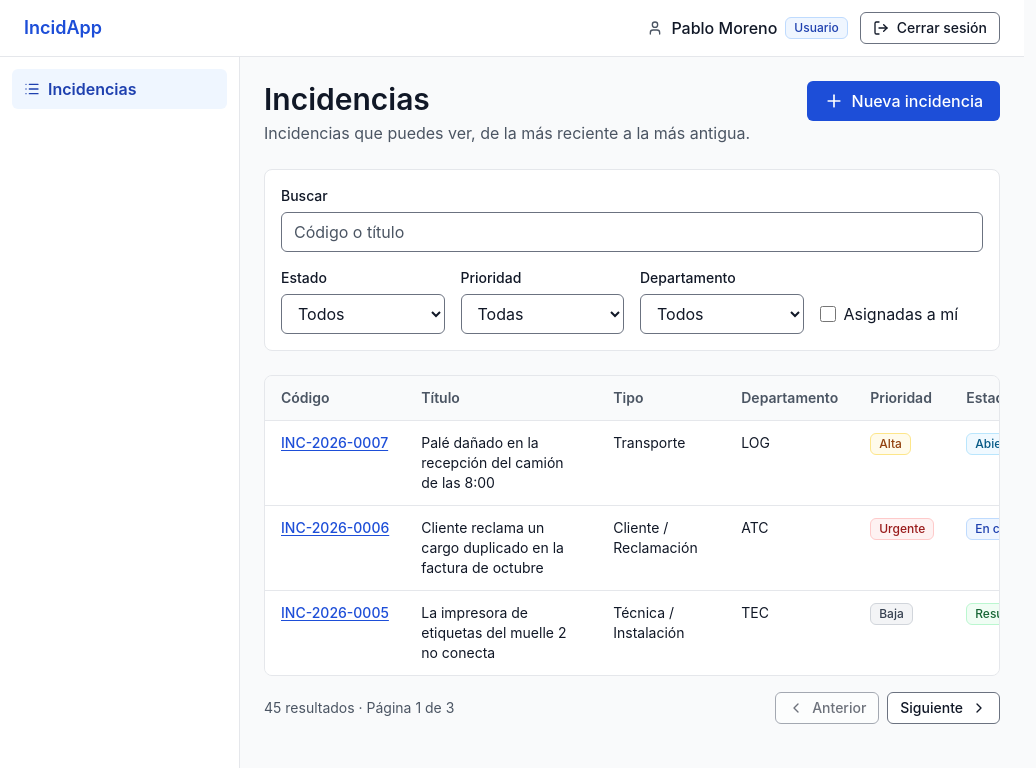
Test: CA-03.12 · listado de incidencias › cambiar un filtro pide la página 1 con los filtros combinados
Step 1. Click the button "Siguiente" → (944, 708), box [887,692,1000,724]
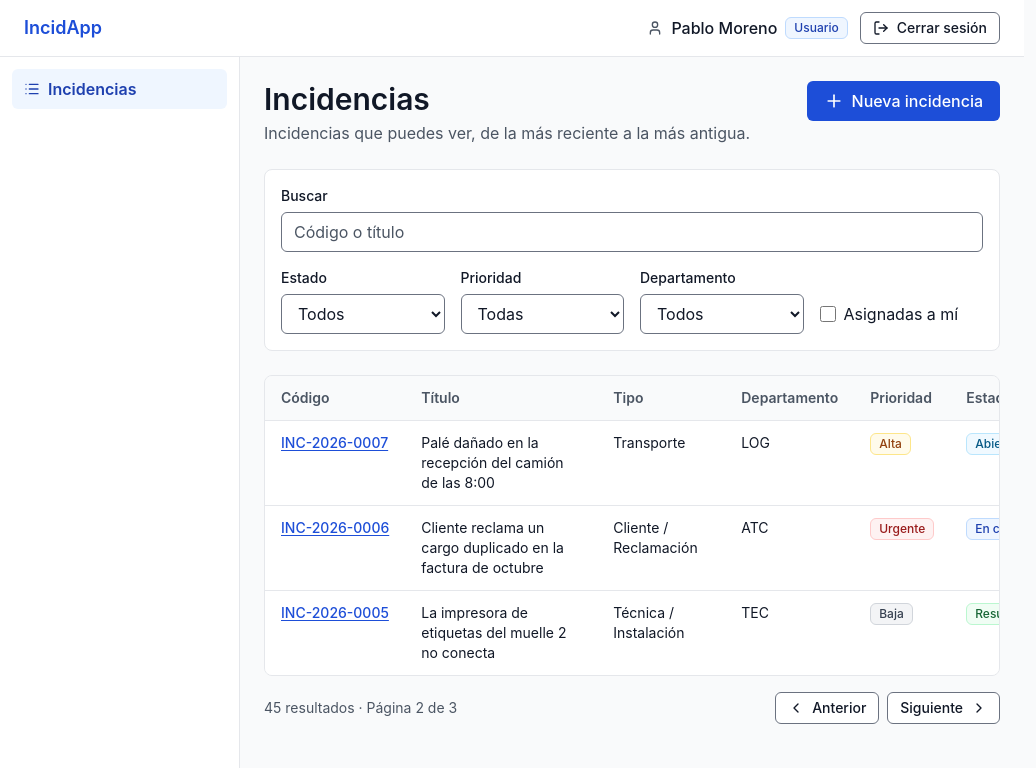
Expected: the text "45 resultados · Página 2 de 3" is shown, [264,698,457,718]
Step 2. Select "En curso" in the dropdown labelled "Estado" → (363, 314), box [281,294,444,334]
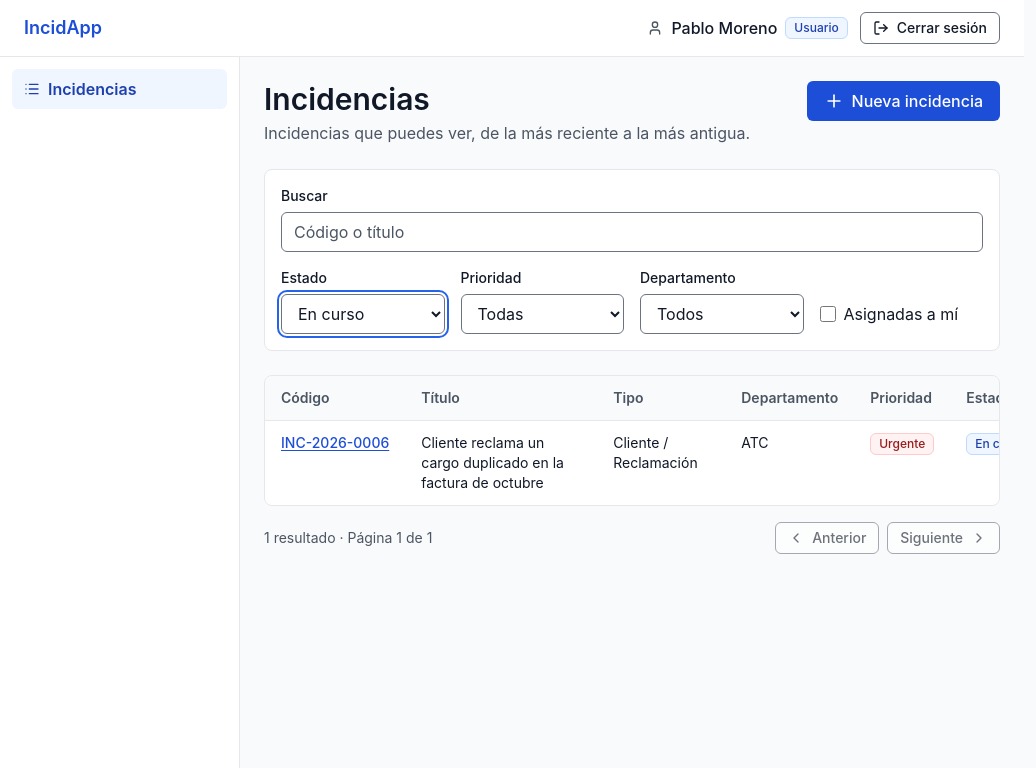
Expected: the text "1 resultado · Página 1 de 1" is shown, [264,528,432,548]
Step 3. Select "Atención al Cliente / Postventa" in the dropdown labelled "Departamento" → (722, 314), box [640,294,804,334]
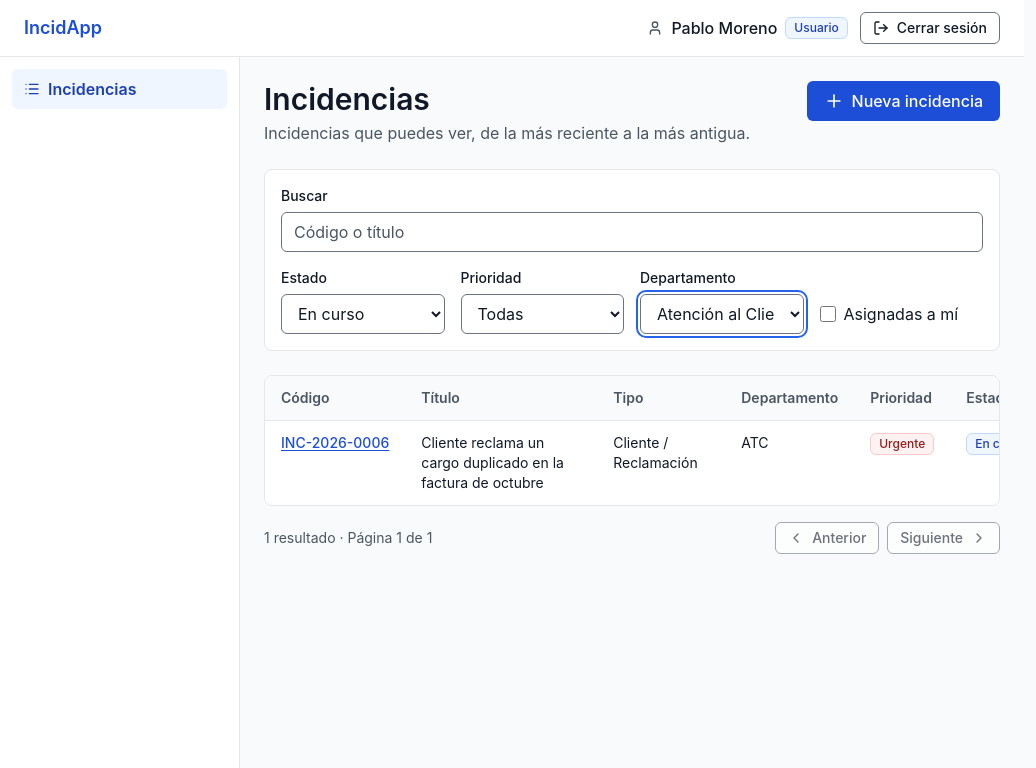
Step 4. Click the checkbox labelled "Asignadas a mí" → (828, 314), box [820,306,836,322]
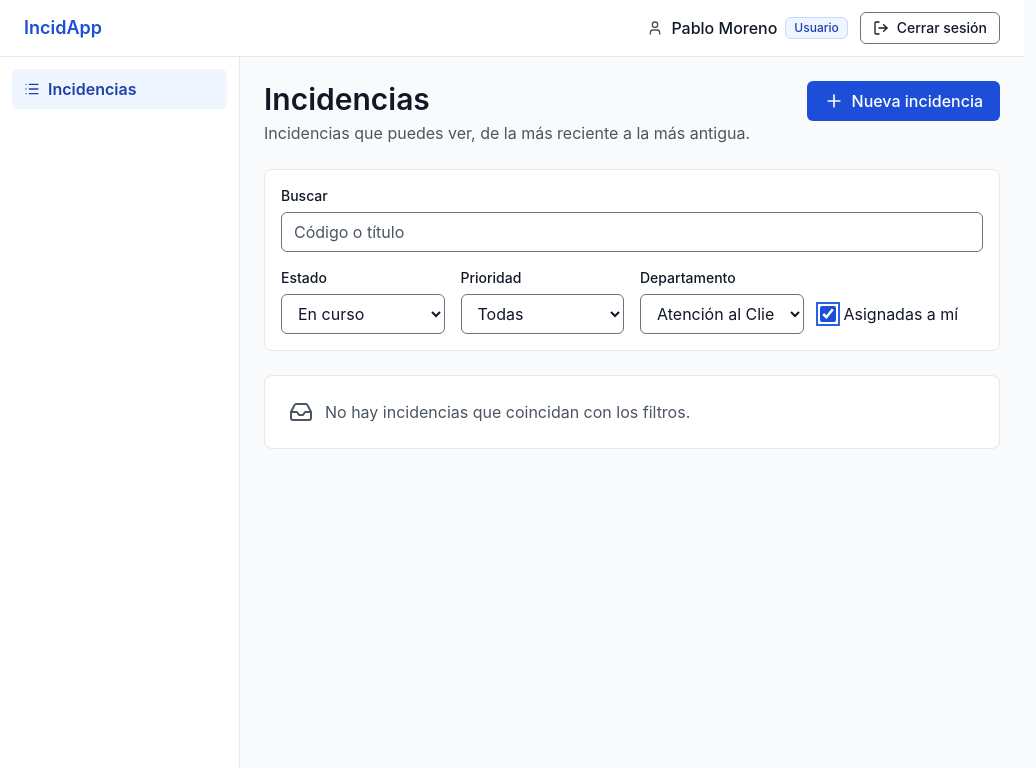
Expected: the text "No hay incidencias que coincidan con los filtros." is shown, [325,400,690,424]
